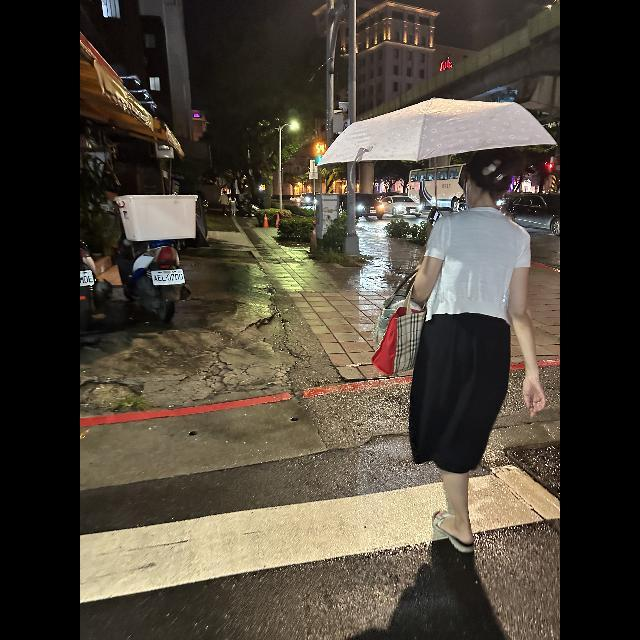sidewalk: (81, 474, 547, 602)
